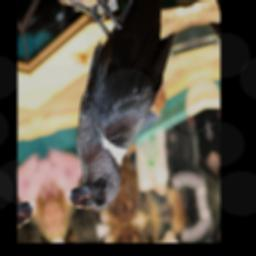Crow: (33, 0, 202, 221)
